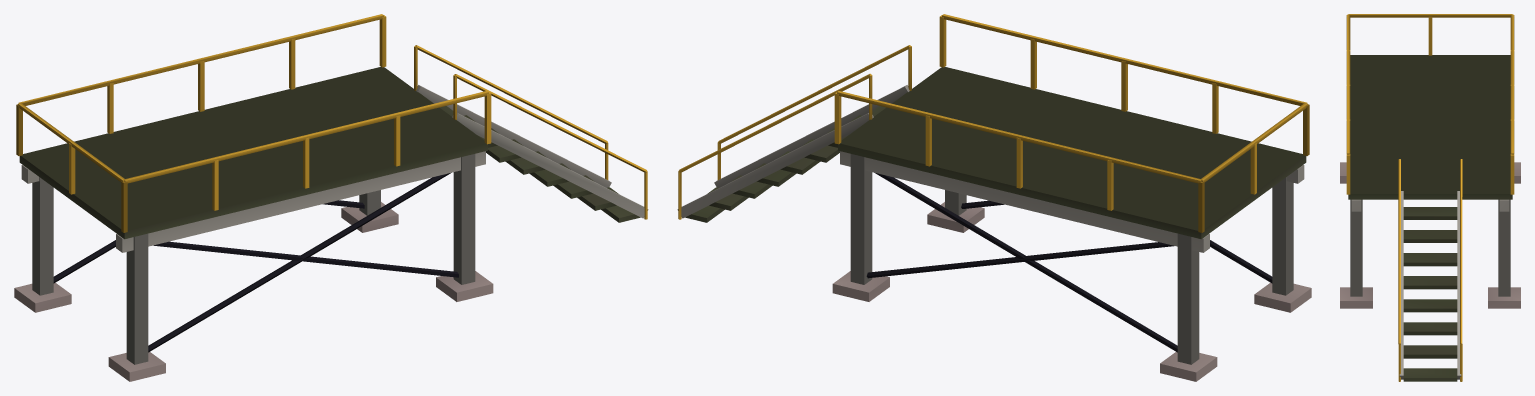
The model's file is kit.dispersal-platform.lod1.glb.
3 renders of one model, left to right at view 1: azimuth 30°, elevation 25°; view 2: azimuth 150°, elevation 25°; view 3: azimuth 270°, elevation 25°, orthographic. The views are drawn at different scales.
Parts seen in each view (by area): view 1: body; view 2: body; view 3: body.
Part boxes in pixels (x1,y1,x2,y2): body: (14, 14, 648, 381); body: (677, 14, 1311, 381); body: (1340, 14, 1520, 381).
Size of the model in its own units: 12.3 by 4.17 by 4.4.
